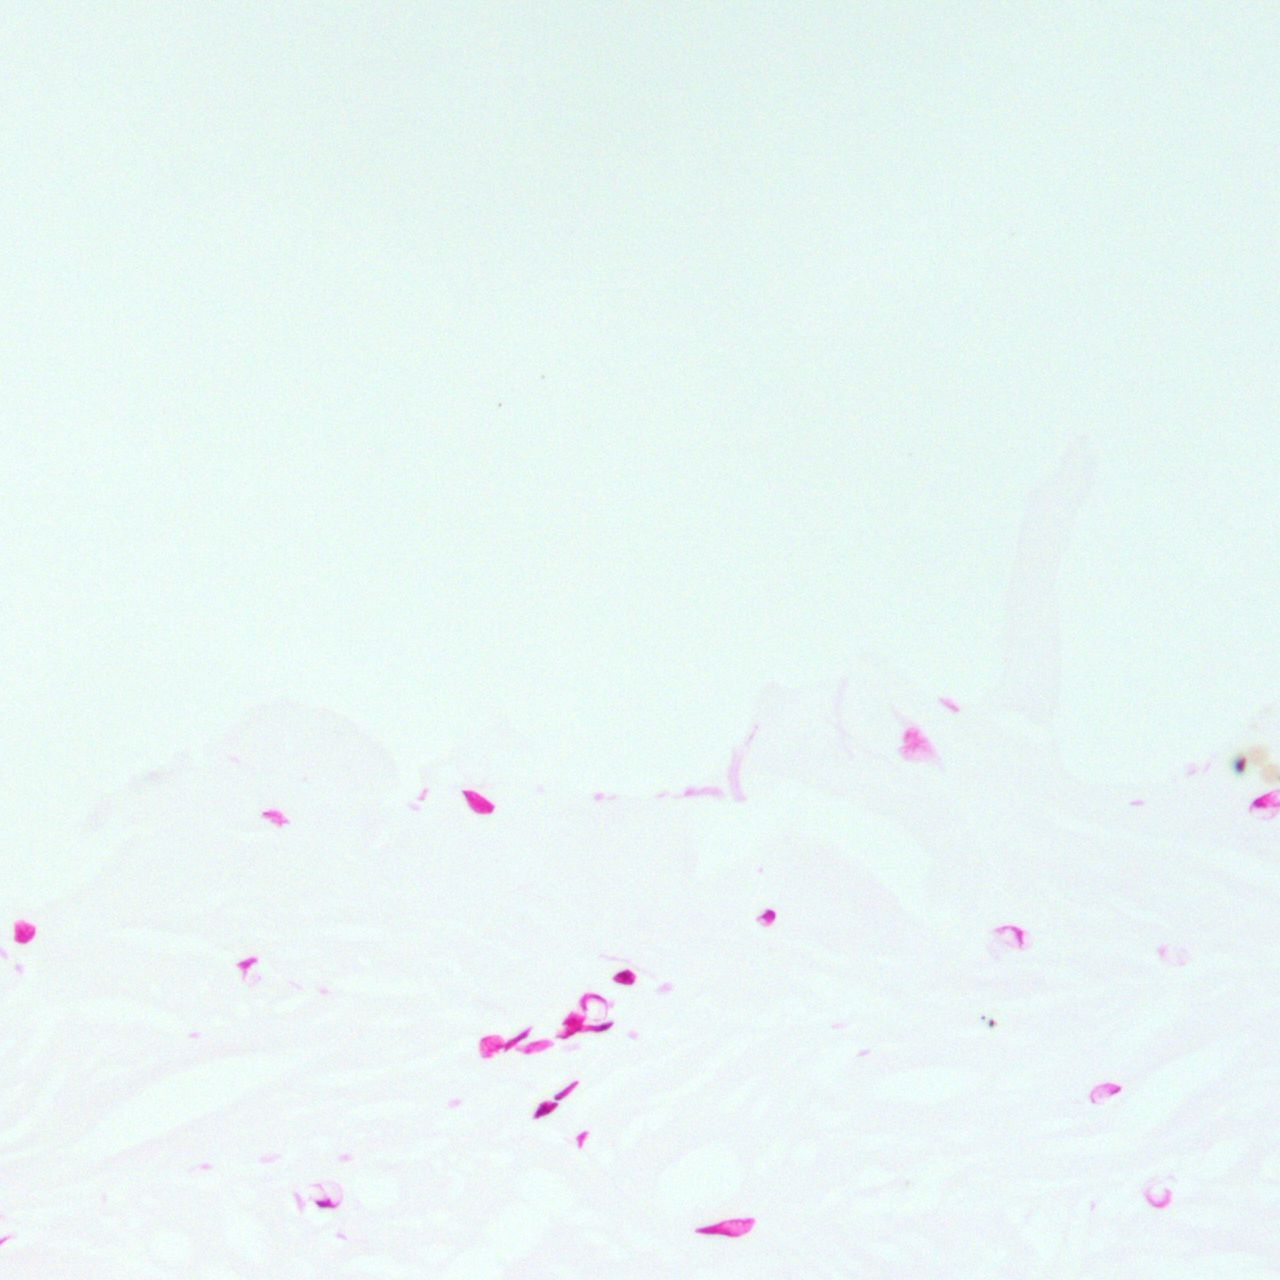dust: (1235, 757, 1245, 770), (988, 1019, 993, 1027), (981, 1016, 985, 1019)
nucleus-FG: (558, 1012, 610, 1037), (528, 1093, 560, 1123), (553, 1077, 581, 1102), (612, 968, 635, 986)
